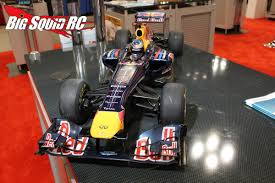f1_car: (32, 8, 201, 177)
